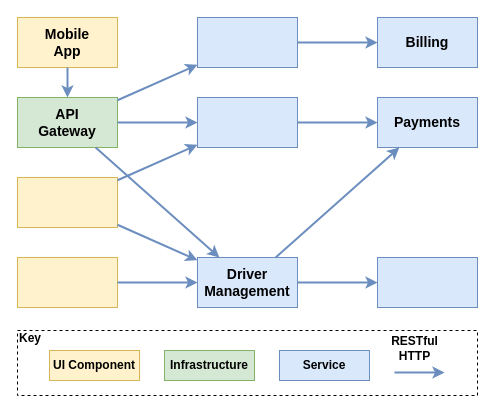
Some shapes in this 495 by 413 pixel diagram are drawn without their labels. The shapes that lost their labels are listed below. From the top down, each one's centre as x and y in pixels, then its label:
At point (247, 42): "Trip Management".
At point (247, 122): "Passenger Management".
At point (67, 202): "Passenger Web UI".
At point (67, 282): "Driver Web UI".
At point (427, 282): "Notification".
